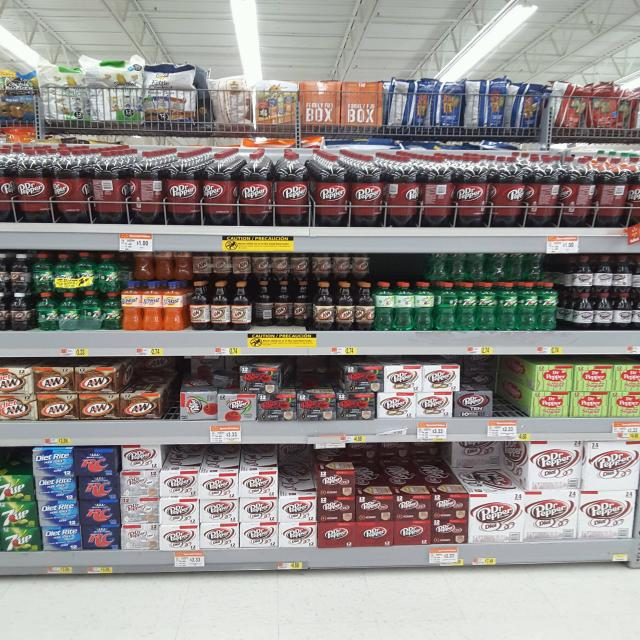unorganised: (385, 80, 640, 124), (488, 156, 640, 226), (51, 148, 162, 223), (383, 154, 456, 226), (202, 152, 238, 223), (204, 76, 250, 122), (240, 360, 288, 393), (178, 384, 218, 421), (1, 145, 15, 224), (435, 280, 456, 330), (254, 280, 272, 324), (612, 254, 631, 295), (11, 254, 30, 291)
